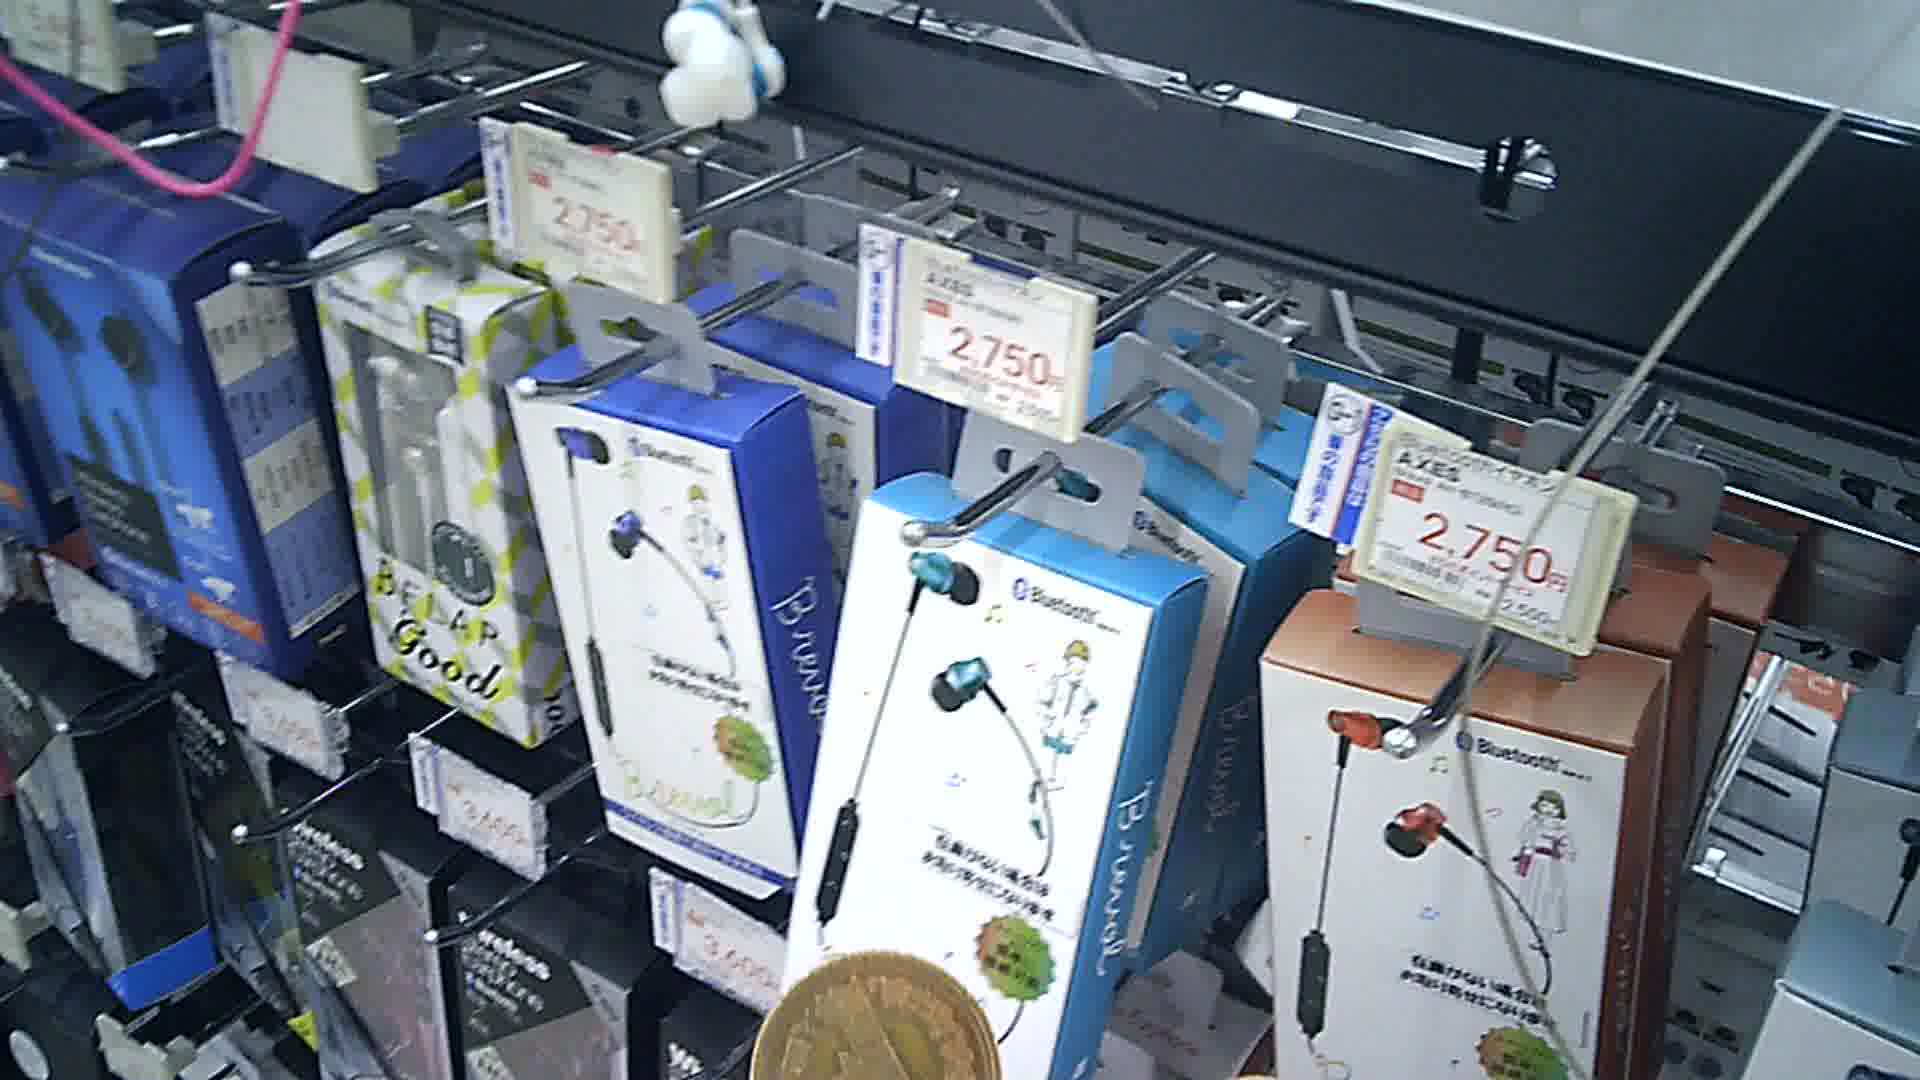10 Yen: (735, 942, 1011, 1079)
